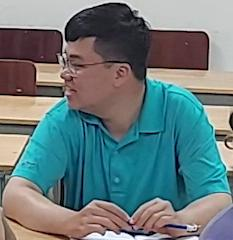Turning_Around: (7, 5, 220, 223)
